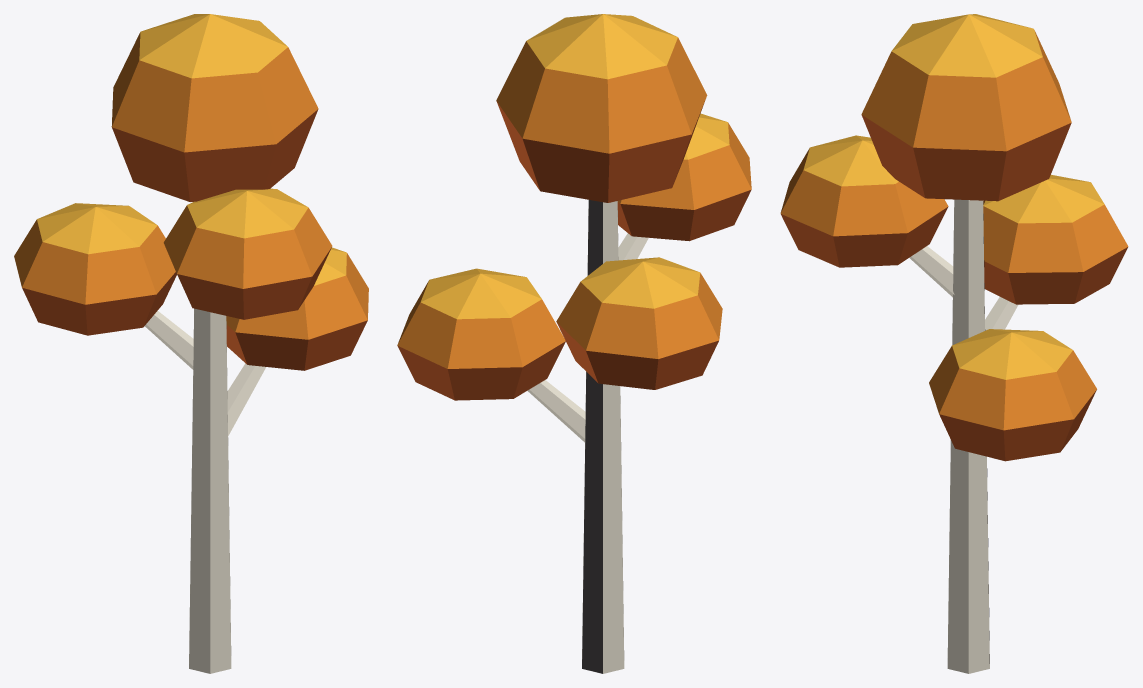
Rendered from tree_thin_fall.glb.
The picture shows the model from 3 angles, left to right: view 1: azimuth 30°, elevation 25°; view 2: azimuth 150°, elevation 25°; view 3: azimuth 270°, elevation 25°; orthographic projection.
Parts seen in each view (by area): view 1: tree_thin_fall; view 2: tree_thin_fall; view 3: tree_thin_fall.
Part boxes in pixels (bbox=[...]): tree_thin_fall: bbox=[14, 14, 368, 673]; tree_thin_fall: bbox=[397, 14, 751, 673]; tree_thin_fall: bbox=[780, 14, 1128, 673].
Bounding box in the file's own units: 0.6996 × 1.32 × 0.6425.
Materials: 1 (1 with a texture image).
